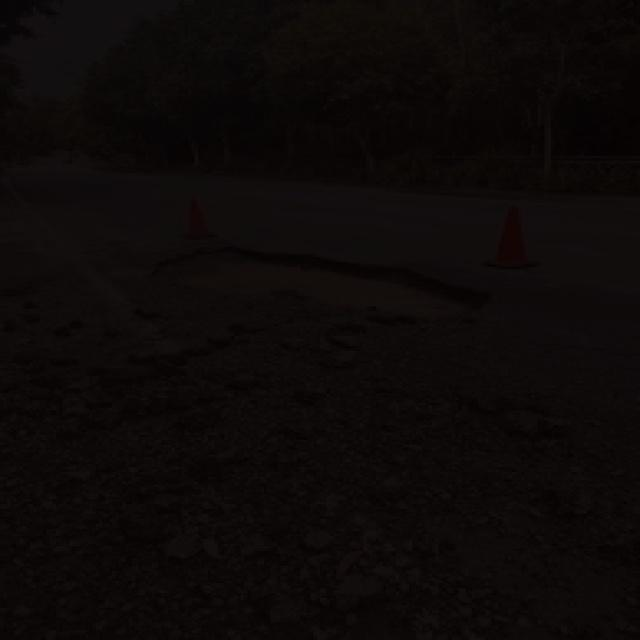Pothole: (23, 355, 639, 640), (151, 239, 497, 359)
